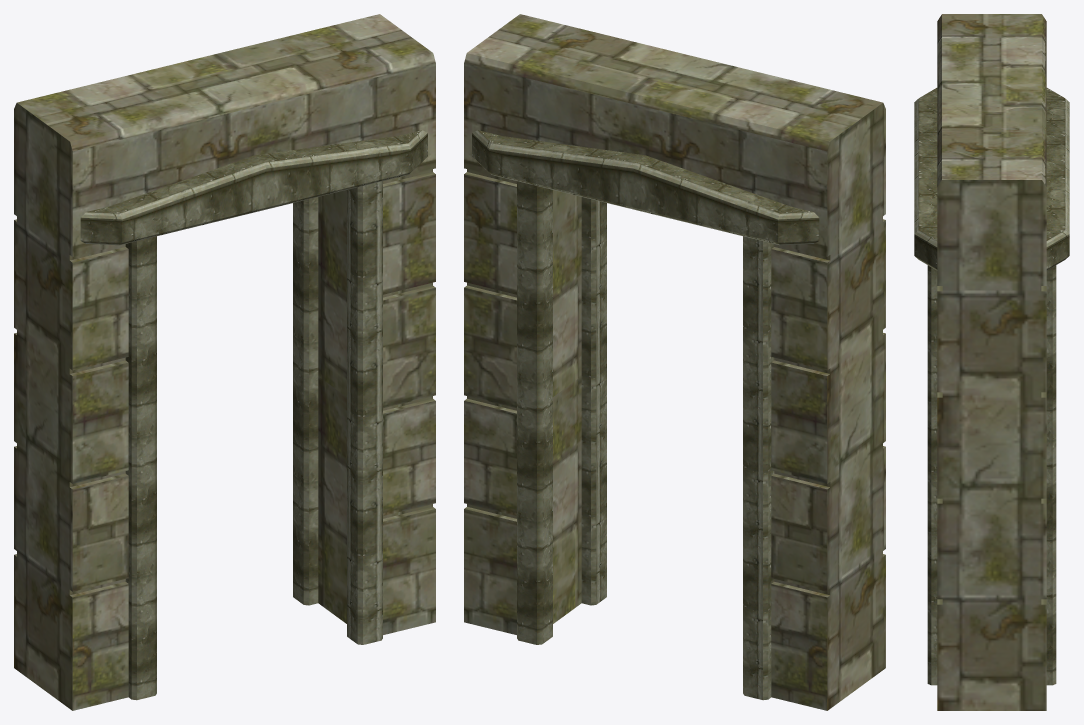
File: wall-door-01.fbx
3 renders of one model, left to right at view 1: azimuth 30°, elevation 25°; view 2: azimuth 150°, elevation 25°; view 3: azimuth 270°, elevation 25°, orthographic. The views are drawn at different scales.
Parts seen in each view (by area): view 1: Cube.167; view 2: Cube.167; view 3: Cube.167.
Boxes of the visible parts, bbox=[...] form: Cube.167: bbox=[14, 14, 435, 710]; Cube.167: bbox=[464, 14, 885, 710]; Cube.167: bbox=[914, 14, 1069, 710].
Bounding box in the file's own units: 1.61 × 2.4 × 0.6355.
